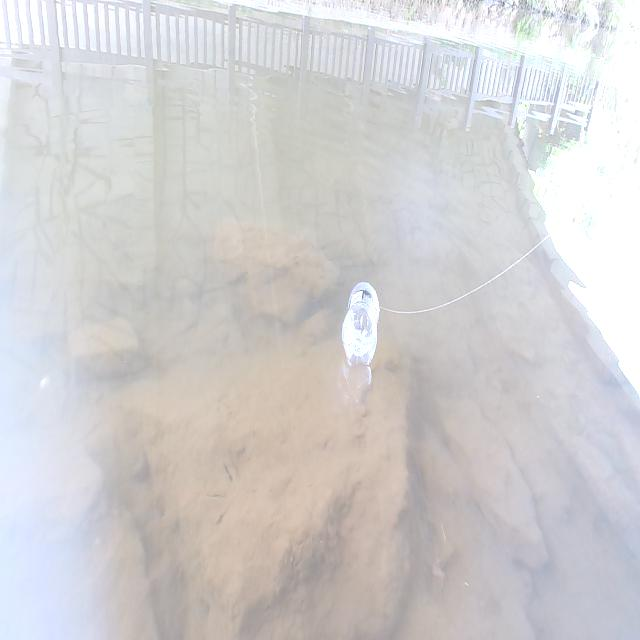bottle: (331, 250, 396, 389)
